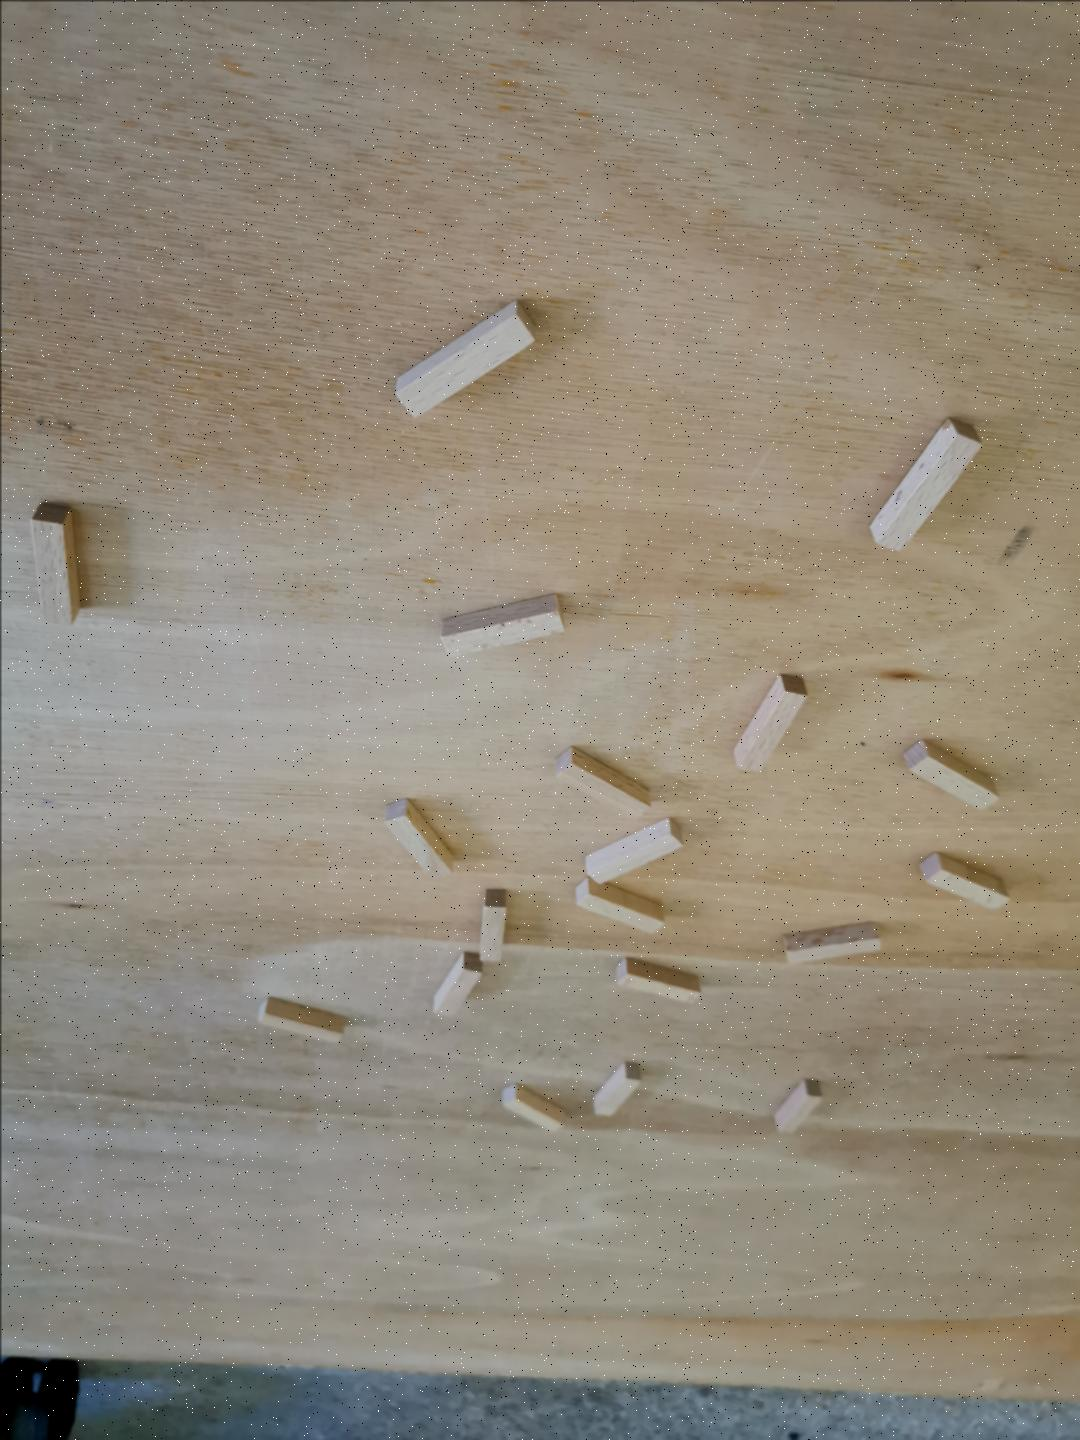jenga: (394, 300, 534, 416), (869, 420, 981, 549), (440, 593, 564, 655), (734, 675, 804, 771), (554, 745, 650, 815), (903, 739, 998, 807), (585, 819, 681, 883), (31, 503, 78, 625), (386, 798, 453, 874), (574, 878, 664, 934), (920, 853, 1007, 908), (782, 920, 880, 962), (616, 956, 700, 1001), (256, 999, 346, 1041), (433, 950, 481, 1015), (500, 1083, 565, 1130), (774, 1077, 821, 1130), (593, 1060, 641, 1113), (478, 889, 506, 962)
